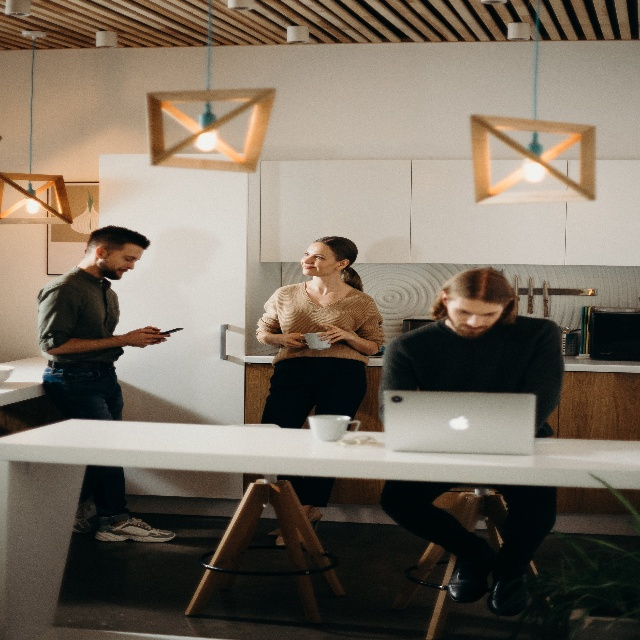Sin_guantes: (124, 328, 168, 348), (317, 322, 351, 343), (282, 331, 308, 350)
